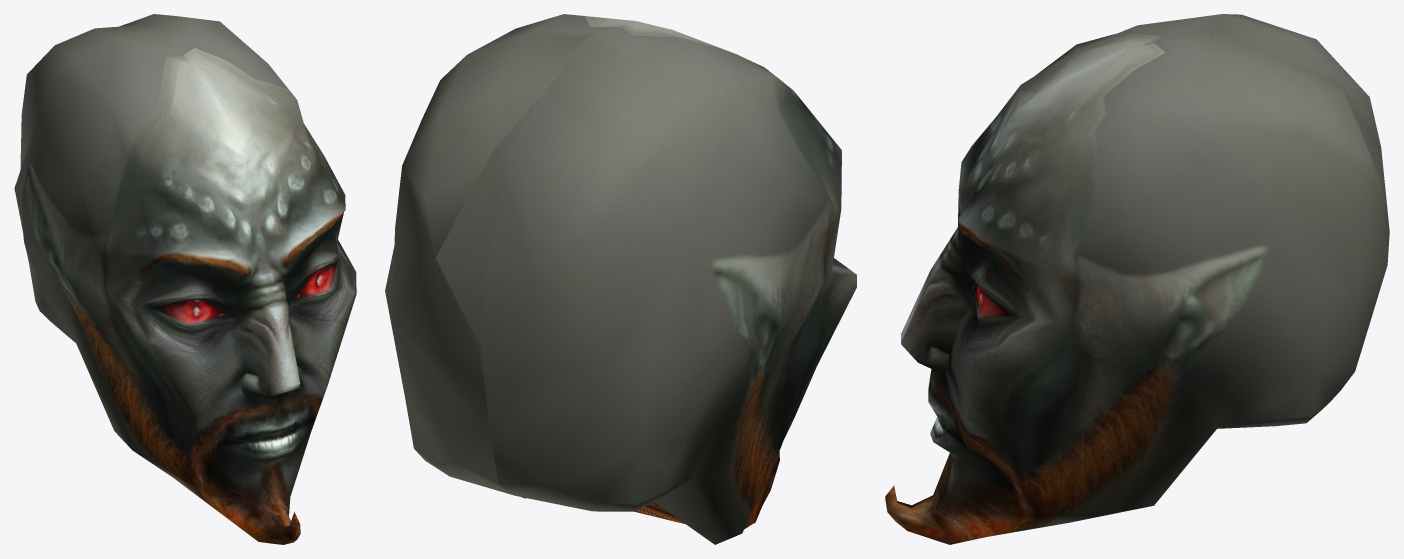
Rendered from b_n_dark elf_m_head_14.glb.
3 views of the same model, side by side, from view 1: azimuth 30°, elevation 25°; view 2: azimuth 150°, elevation 25°; view 3: azimuth 270°, elevation 25° (orthographic). The views are drawn at different scales.
Parts seen in each view (by area): view 1: Tri B_N_Dark Elf_M_Head_09; view 2: Tri B_N_Dark Elf_M_Head_09; view 3: Tri B_N_Dark Elf_M_Head_09.
Boxes of the visible parts, x1,y1,x2,y2 form: Tri B_N_Dark Elf_M_Head_09: [14, 14, 356, 544]; Tri B_N_Dark Elf_M_Head_09: [385, 14, 856, 544]; Tri B_N_Dark Elf_M_Head_09: [885, 14, 1389, 544].
Bounding box in the file's own units: 0.093 × 0.1594 × 0.1442.
1 material, 1 textured.
